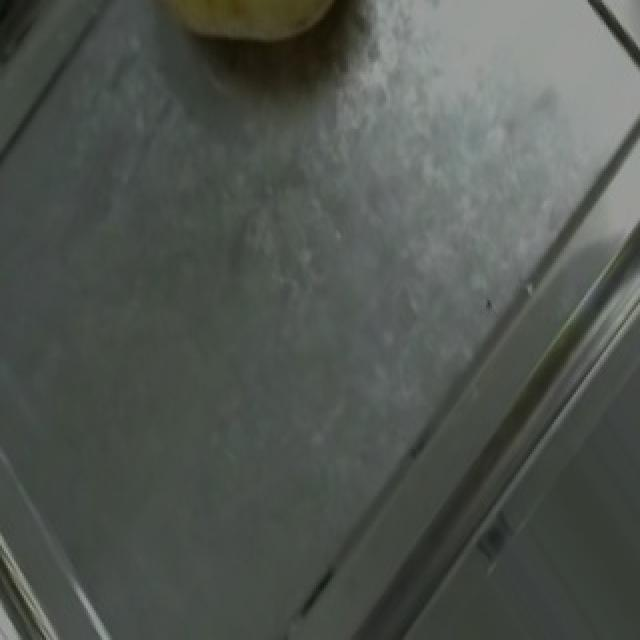Fruit: (112, 0, 384, 84)
